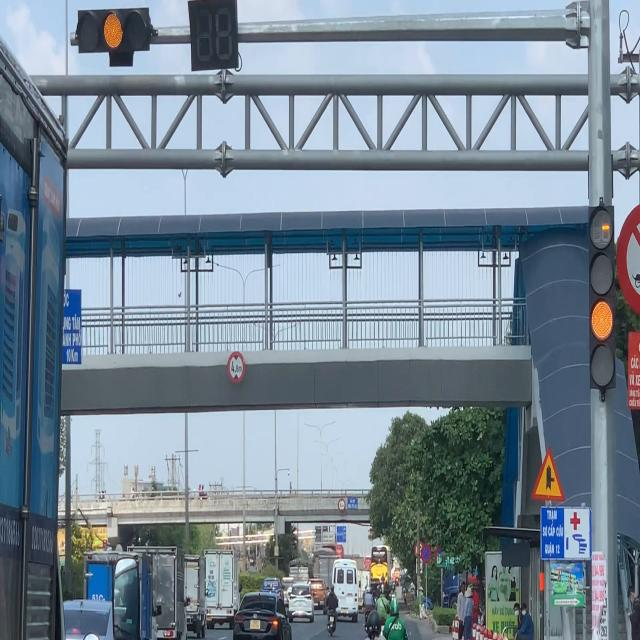Cam con lai: (617, 204, 640, 310)
Cam dung va do: (421, 542, 432, 564)
Chieu cao toi da: (227, 351, 246, 385), (338, 498, 346, 512)
Giao voi duong khong uu tien: (530, 446, 566, 504)
